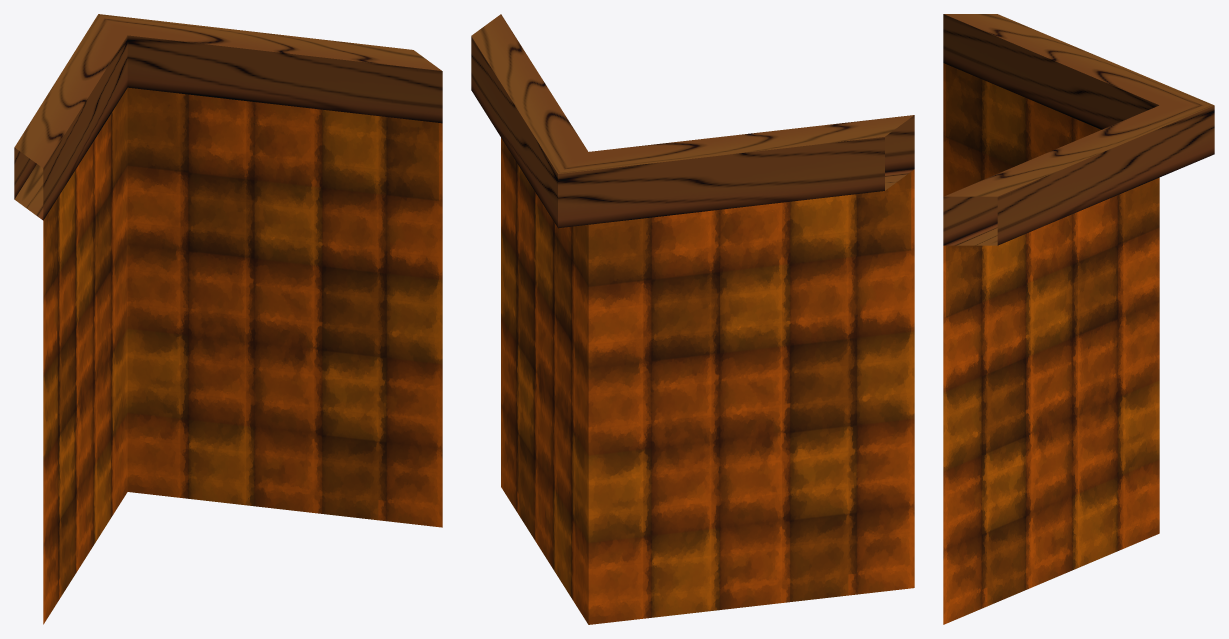
The model's file is MTile_28.fbx.
The picture shows the model from 3 angles, left to right: view 1: azimuth 30°, elevation 25°; view 2: azimuth 150°, elevation 25°; view 3: azimuth 270°, elevation 25°; orthographic projection. The views are drawn at different scales.
Visible parts, largest first — view 1: MTile_28; view 2: MTile_28; view 3: MTile_28.
Part boxes in pixels (left/top/right/bottom): MTile_28: left=14, top=14, right=442, bottom=624; MTile_28: left=471, top=14, right=914, bottom=624; MTile_28: left=943, top=14, right=1214, bottom=624.
Bounding box in the file's own units: 255 × 278 × 160.
